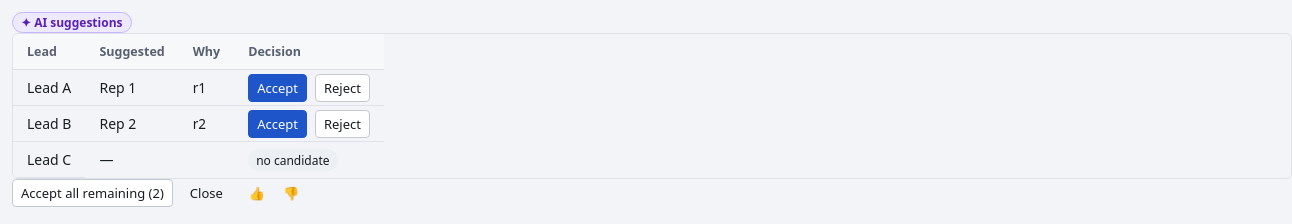
Test: CRM AI insights › reviews bulk routing suggestions row by row
Click the button with aria-label "Accept Rep 1 for Lead A".
click(278, 88)  # box [248,74,307,102]
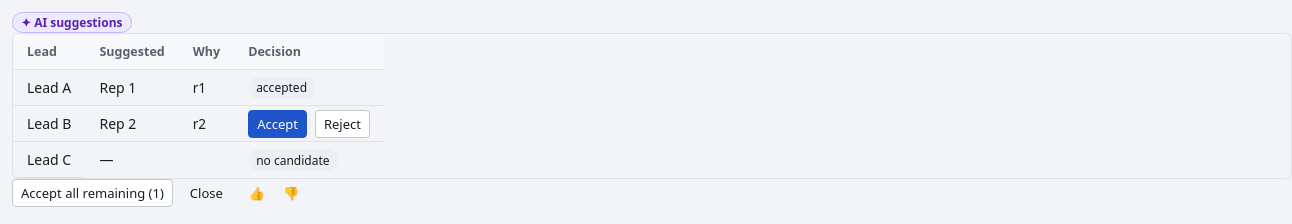
Click the button with aria-label "Reject suggestion for Lead B".
click(342, 124)  # box [315,110,370,138]
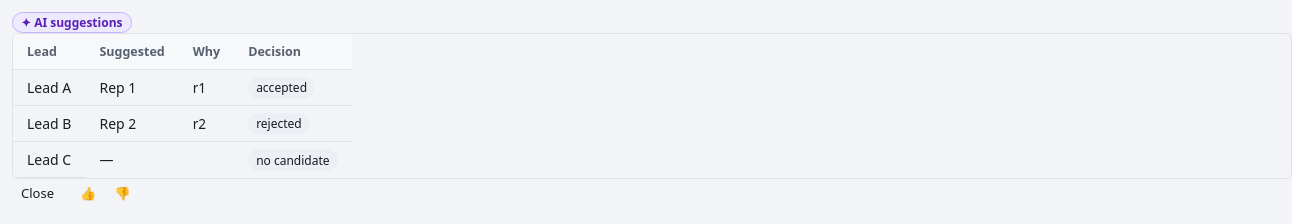
Expected: the text "no candidate" is shown, [248,149,338,171]
Now the text "accepted" is shown, box [248,77,315,99]
Now the text "rejected" is shown, box [248,113,310,135]
